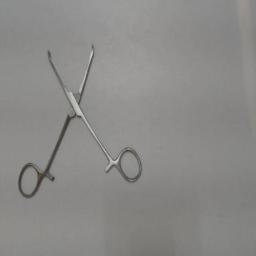Allis Tissue Forceps: (14, 36, 146, 204)
